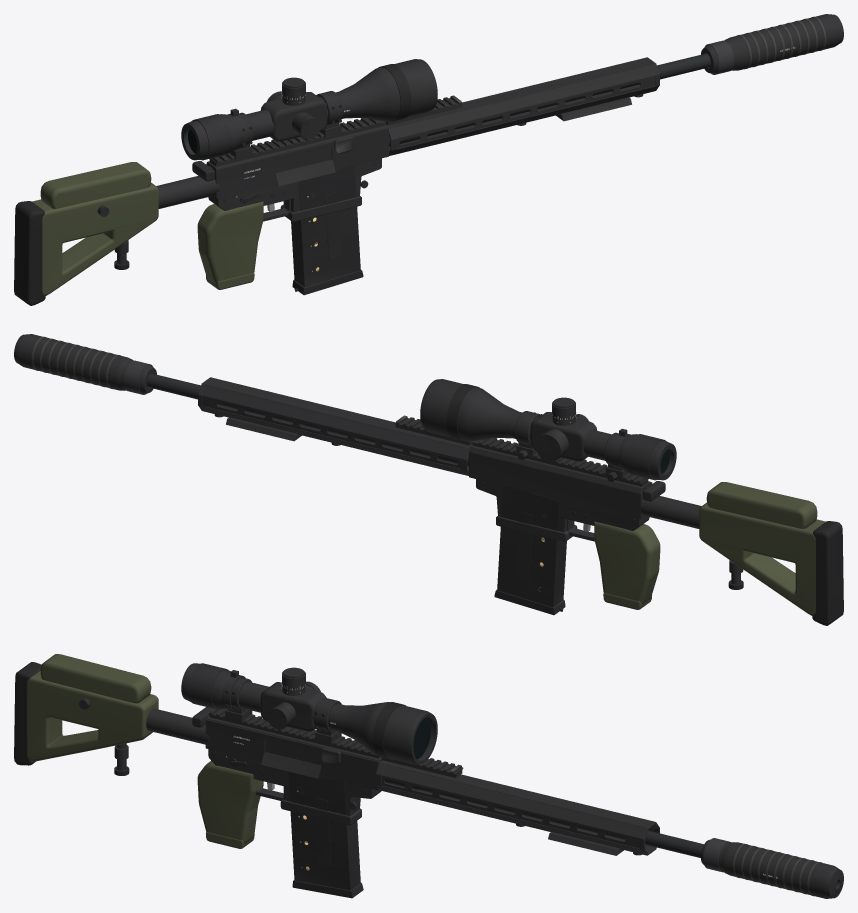
File: akbaba.glb
3 views of the same model, one above another, from view 1: azimuth 30°, elevation 25°; view 2: azimuth 150°, elevation 25°; view 3: azimuth 330°, elevation 25° (orthographic).
Parts seen in each view (by area): view 1: dipcik, durbun, el_kundagi, ust_govde, sarjor, namlu, kabza, alt_govde; view 2: dipcik, durbun, el_kundagi, ust_govde, sarjor, namlu, kabza, alt_govde; view 3: dipcik, durbun, el_kundagi, ust_govde, sarjor, namlu, kabza, alt_govde.
Boxes of the visible parts, x1,y1,x2,y2 form: dipcik: (14, 162, 219, 305); durbun: (181, 59, 437, 160); el_kundagi: (385, 57, 659, 155); ust_govde: (192, 118, 388, 198); sarjor: (291, 165, 363, 295); namlu: (389, 14, 843, 146); kabza: (197, 201, 263, 289); alt_govde: (208, 158, 381, 221); dipcik: (638, 482, 843, 625); durbun: (420, 379, 676, 481); el_kundagi: (198, 377, 472, 475); ust_govde: (469, 438, 665, 518); sarjor: (494, 486, 566, 615); namlu: (14, 334, 468, 466); kabza: (594, 521, 660, 609); alt_govde: (476, 479, 649, 541); dipcik: (14, 654, 208, 775); durbun: (181, 663, 437, 764); el_kundagi: (375, 756, 659, 855); ust_govde: (192, 707, 386, 790); sarjor: (288, 771, 363, 898); namlu: (385, 779, 843, 898); kabza: (197, 761, 263, 848); alt_govde: (208, 749, 381, 825).
Size of the model in its own units: 1.19 by 0.2919 by 0.082.
